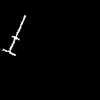double_crochet: (3, 16, 25, 55)
